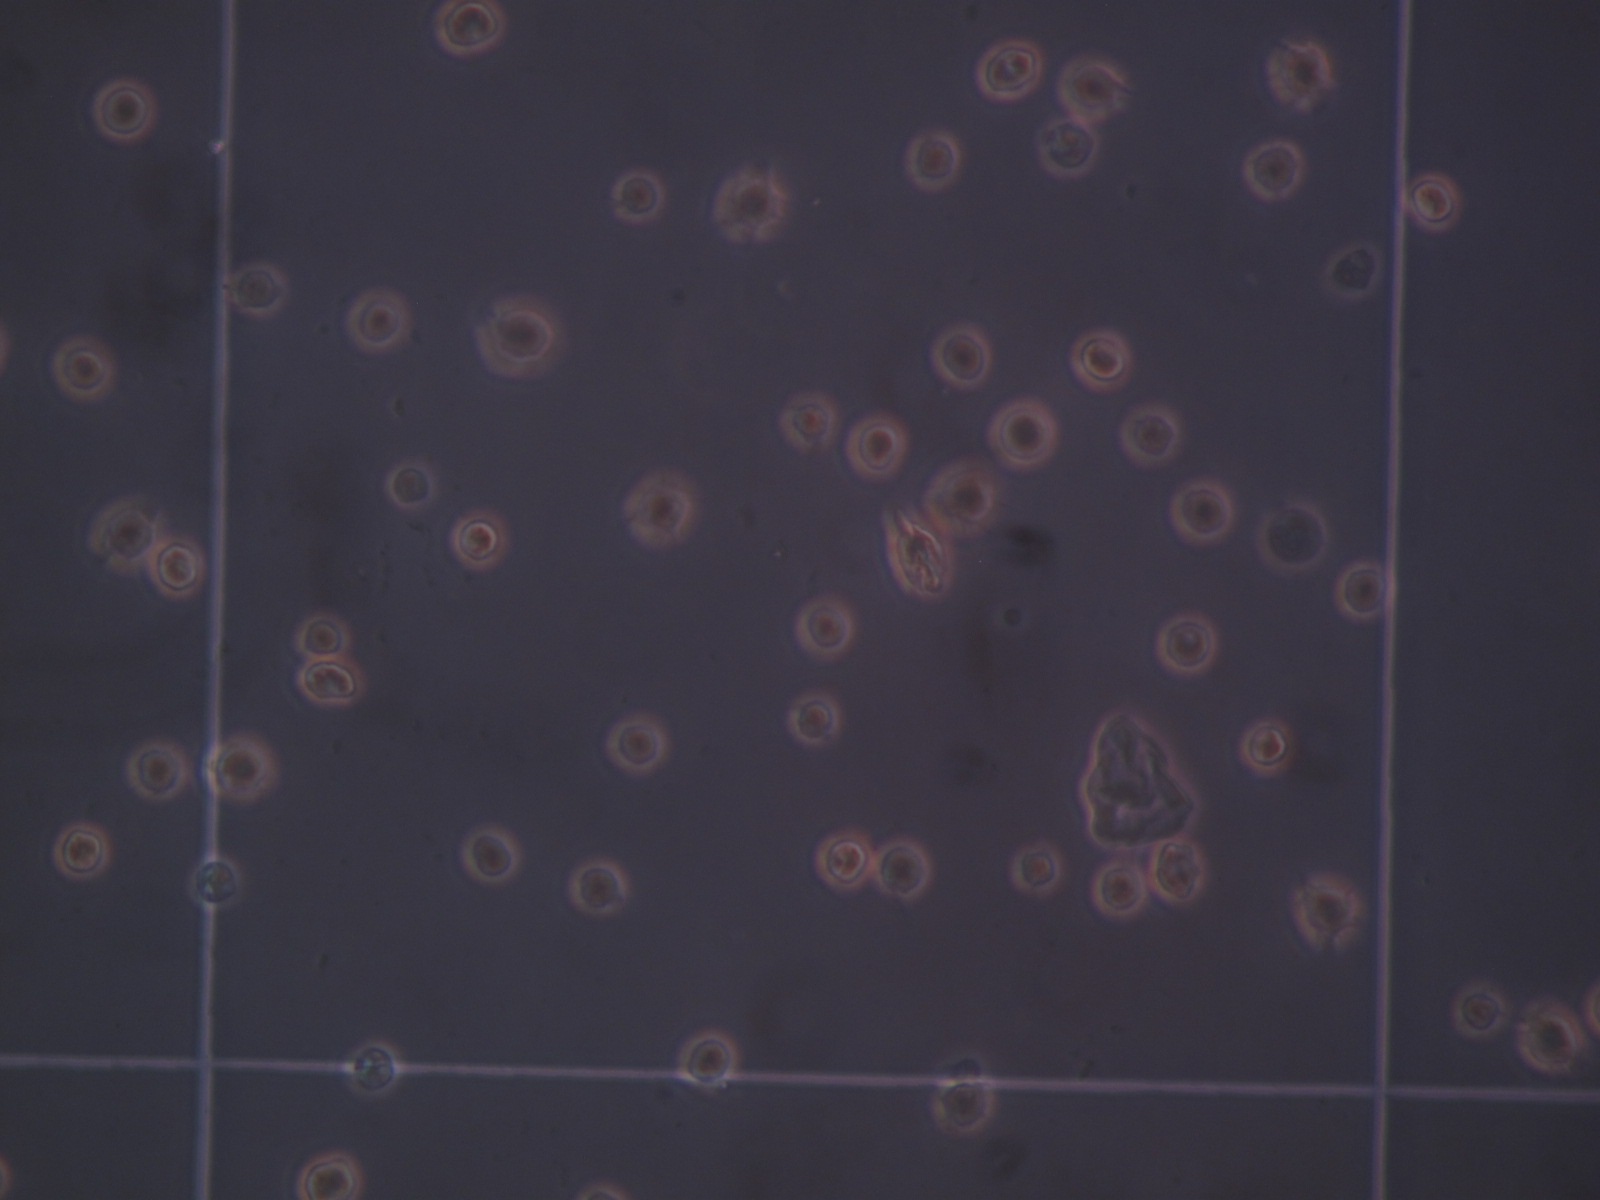hemo: (475, 297, 567, 379), (87, 498, 168, 581), (922, 456, 1002, 537), (624, 468, 698, 548), (1290, 871, 1363, 953), (713, 166, 787, 245), (1517, 997, 1585, 1074), (1260, 499, 1329, 574), (205, 736, 278, 803), (1167, 476, 1235, 546), (1060, 55, 1128, 122), (345, 286, 411, 354), (843, 413, 907, 483), (1269, 43, 1335, 108), (990, 398, 1056, 465), (976, 39, 1043, 102), (1119, 405, 1183, 469), (929, 324, 991, 389), (1070, 332, 1133, 395), (795, 595, 854, 662), (436, 1, 508, 55), (1146, 839, 1204, 906), (1037, 118, 1099, 180), (815, 829, 877, 891), (605, 715, 666, 776), (126, 740, 189, 800), (53, 338, 113, 400), (459, 824, 522, 884), (876, 838, 934, 903), (569, 858, 630, 919), (934, 1076, 997, 1134), (92, 81, 155, 139), (678, 1031, 738, 1090), (1243, 142, 1305, 200), (454, 508, 509, 572), (297, 658, 369, 706), (1157, 616, 1216, 674), (1337, 561, 1393, 621), (150, 537, 207, 597), (346, 1037, 401, 1099), (784, 395, 840, 453), (189, 855, 246, 913), (1091, 861, 1146, 920), (1324, 245, 1385, 299), (907, 134, 961, 193), (1405, 175, 1461, 231), (1453, 979, 1506, 1039), (1008, 839, 1062, 896), (53, 823, 112, 875), (386, 458, 442, 511), (611, 171, 666, 223), (1240, 718, 1290, 775), (299, 1155, 362, 1200), (231, 263, 287, 314), (295, 614, 353, 662), (789, 691, 840, 742)
